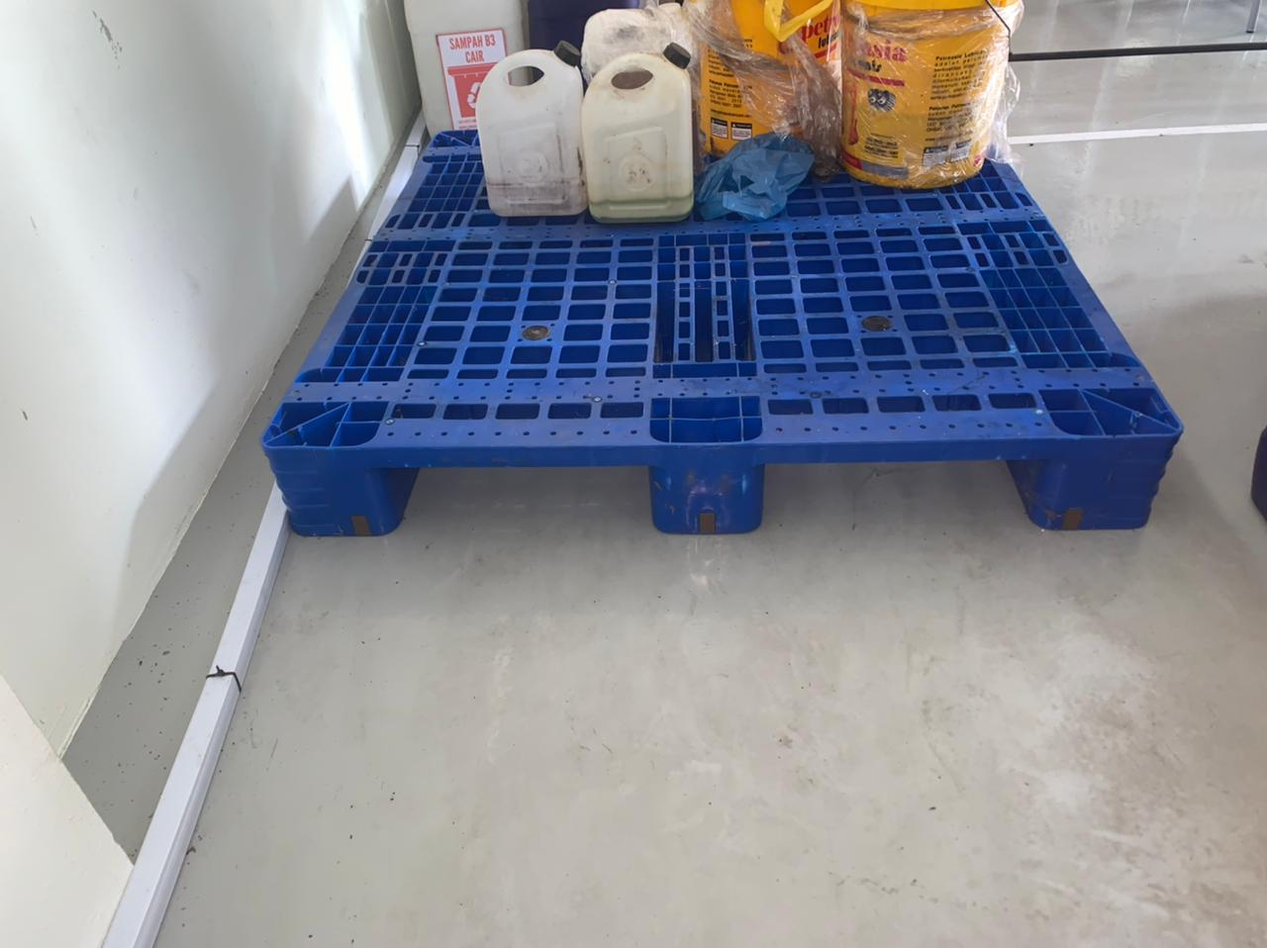block: (1035, 433, 1183, 533), (264, 439, 395, 532), (647, 442, 760, 530)
front: (264, 433, 1177, 536)
hole pallet: (765, 458, 1048, 528), (380, 466, 656, 528)
